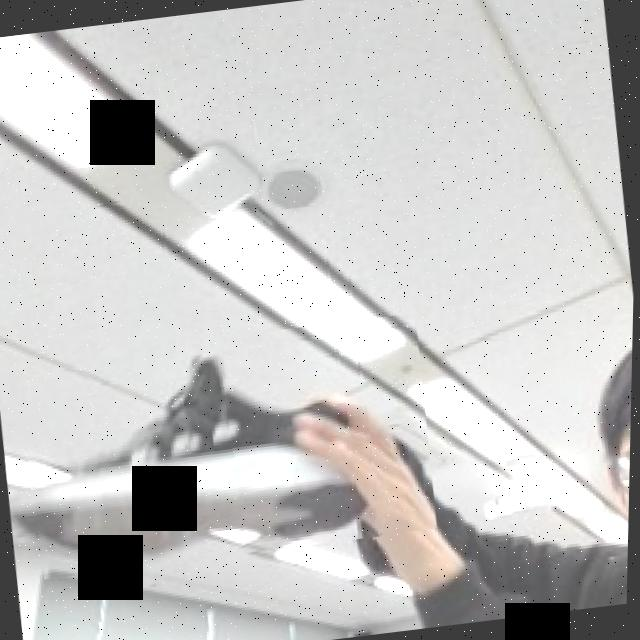shoe: (14, 313, 444, 580)
